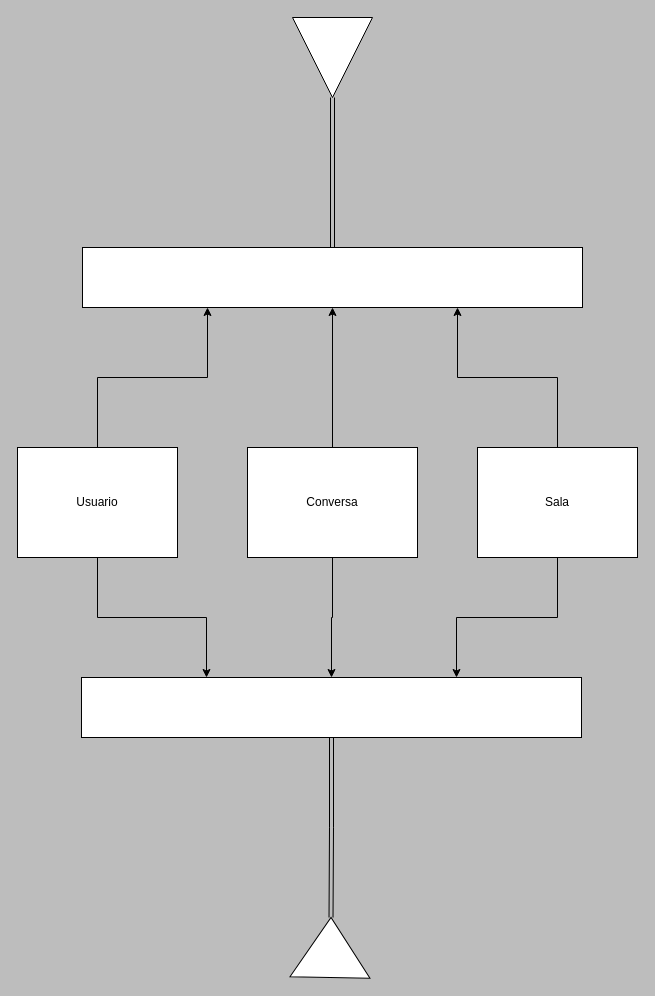
Some shapes in this 655 by 996 pixel diagram are drawn without their labels. Each missing label, with the centre of its shape:
Orquestrador de Salas: the point at 332,277
Orquestrador de Usuarios: the point at 331,707
